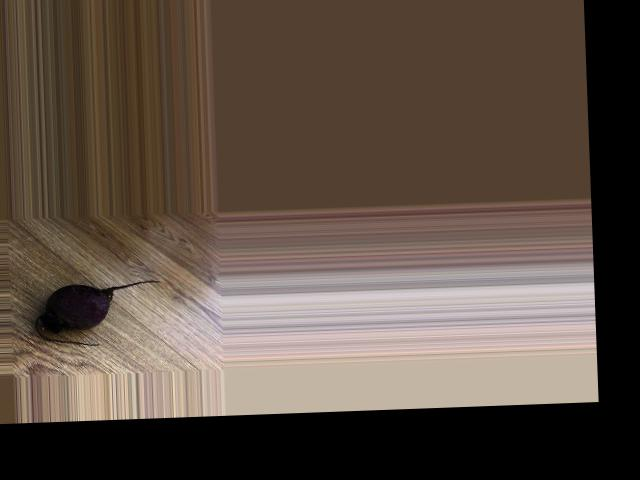beet: (34, 279, 163, 347)
